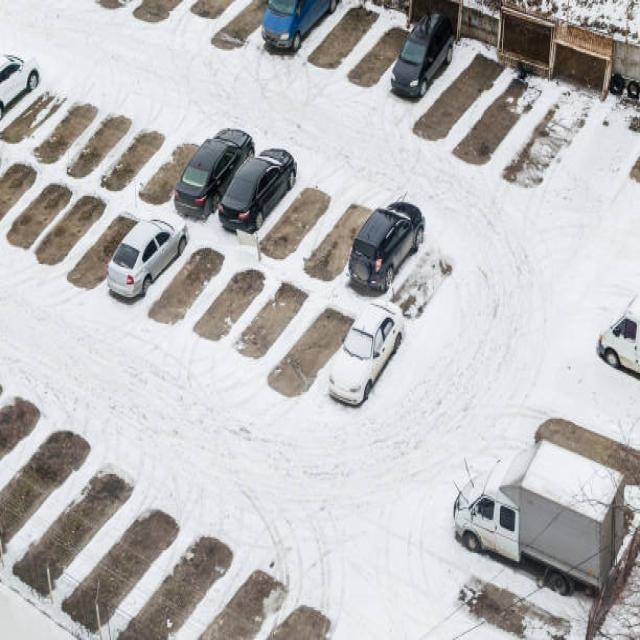car: (452, 434, 624, 597), (326, 299, 402, 408), (173, 126, 254, 220), (346, 202, 426, 294), (108, 212, 190, 300), (220, 147, 296, 235), (389, 15, 454, 100), (258, 0, 341, 54), (597, 299, 640, 381), (0, 51, 38, 121)
